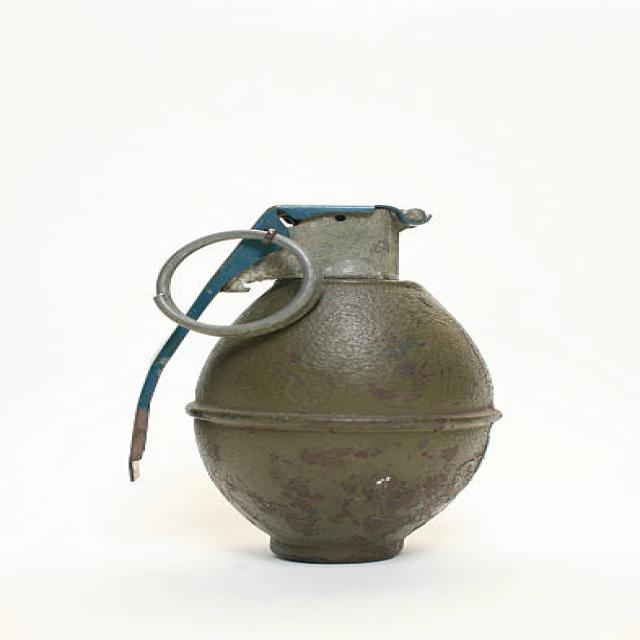grenade: (124, 198, 510, 570)
